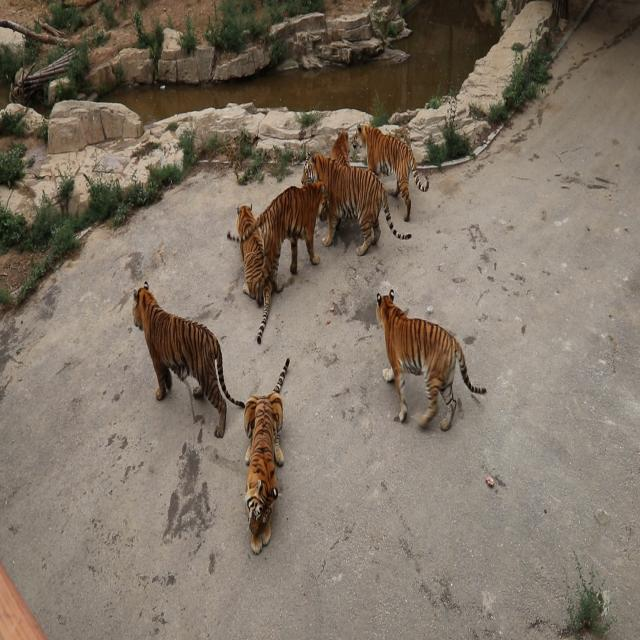Tiger: (127, 271, 246, 440), (376, 286, 490, 427), (228, 171, 334, 295), (300, 152, 410, 256), (241, 355, 289, 552), (353, 121, 429, 223), (234, 199, 272, 337), (330, 126, 352, 171)
